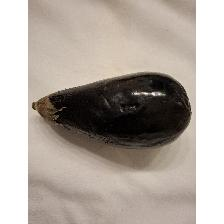Aubergine: (29, 70, 193, 154)
